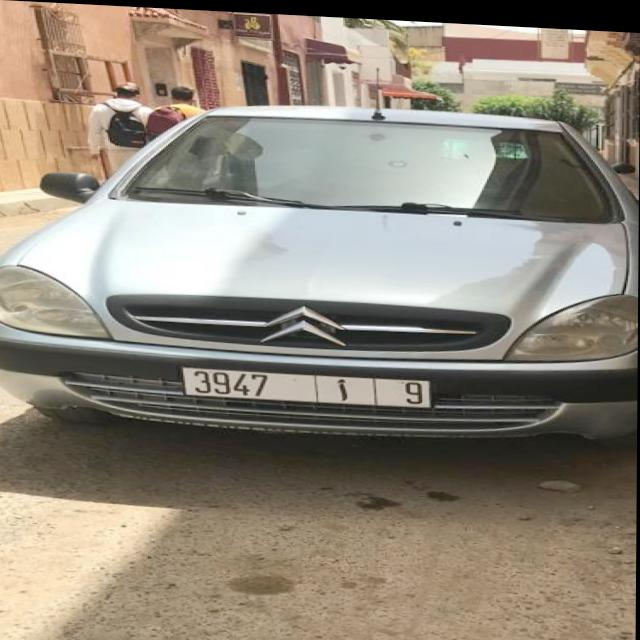License-Plate: (182, 367, 431, 403)
